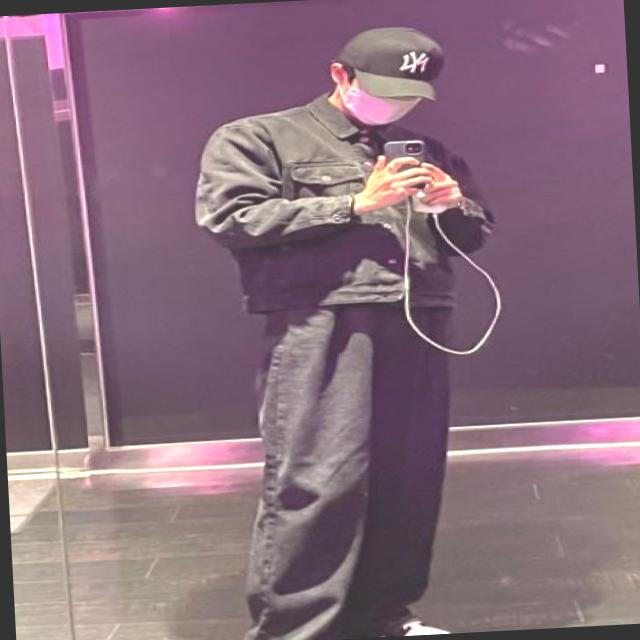denimpants: (228, 297, 465, 640)
jacket: (192, 91, 498, 323)
